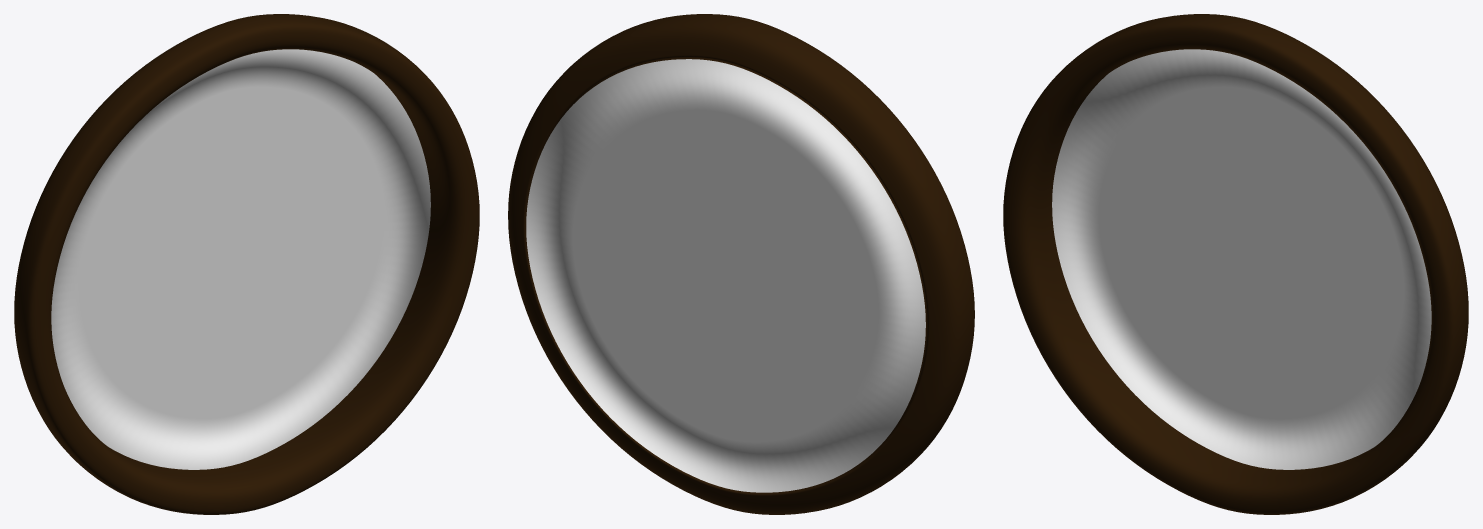
The model's file is ventana6.fbx.
3 views of the same model, side by side, from view 1: azimuth 30°, elevation 25°; view 2: azimuth 150°, elevation 25°; view 3: azimuth 330°, elevation 25° (orthographic).
Visible parts, largest first — view 1: Circle.002; view 2: Circle.002; view 3: Circle.002.
Part boxes in pixels (bbox=[...]): Circle.002: bbox=[14, 14, 479, 514]; Circle.002: bbox=[508, 14, 974, 514]; Circle.002: bbox=[1003, 14, 1468, 514].
Size of the model in its own units: 3385 by 3444 by 336.
